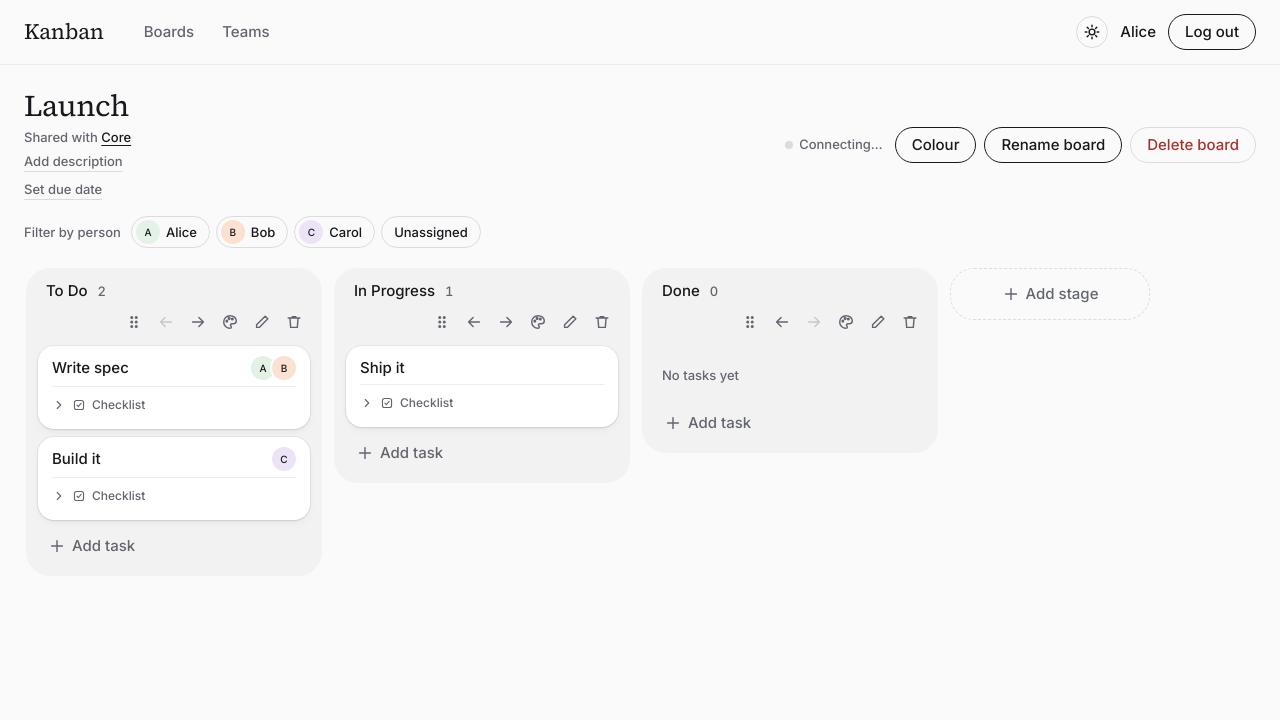
Scenario: assigning in the task dialog › pre-checks current assignees and can clear them
The image size is (1280, 720).
Expected: the heading "Launch" is shown, [24,85,129,126]
Click the button with aria-label "open task write spec" at x=90, y=367, box [52,358,296,380]
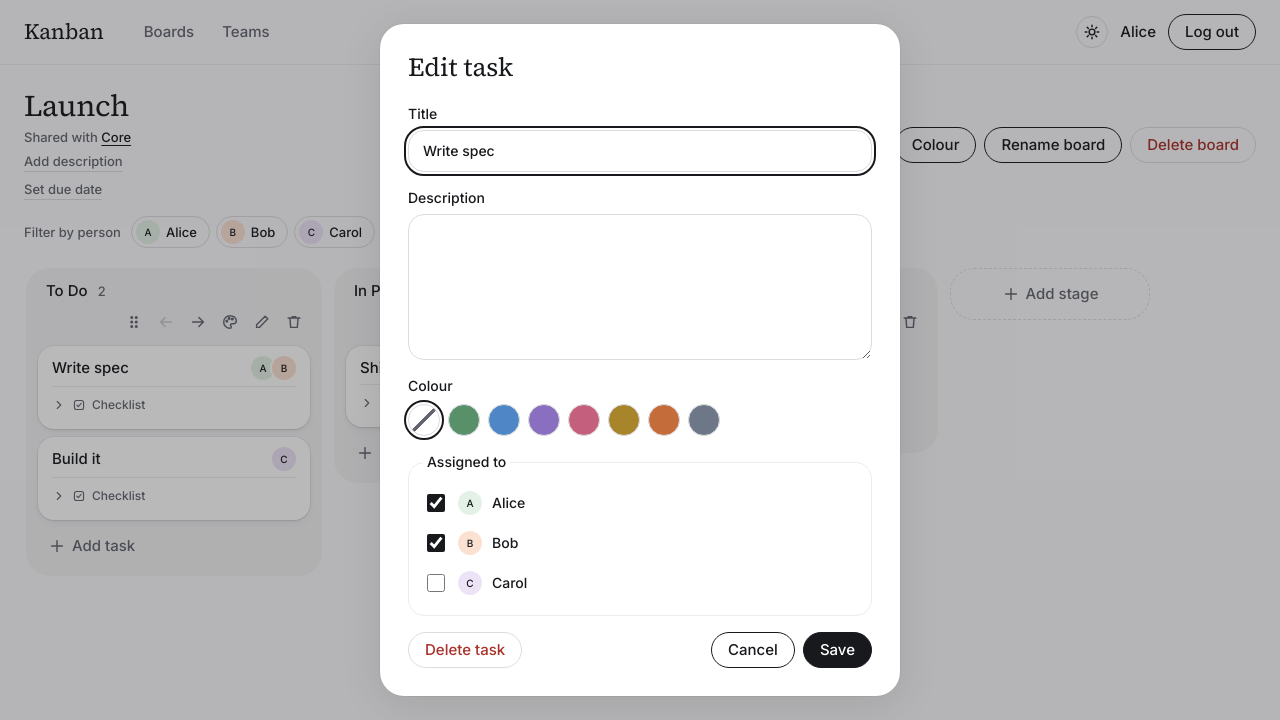
Now the checkbox labelled "Alice" is checked
Now the checkbox labelled "Bob" is checked, box [427,534,445,552]
Click the checkbox labelled "Alice" at x=436, y=503, box [427,494,445,512]
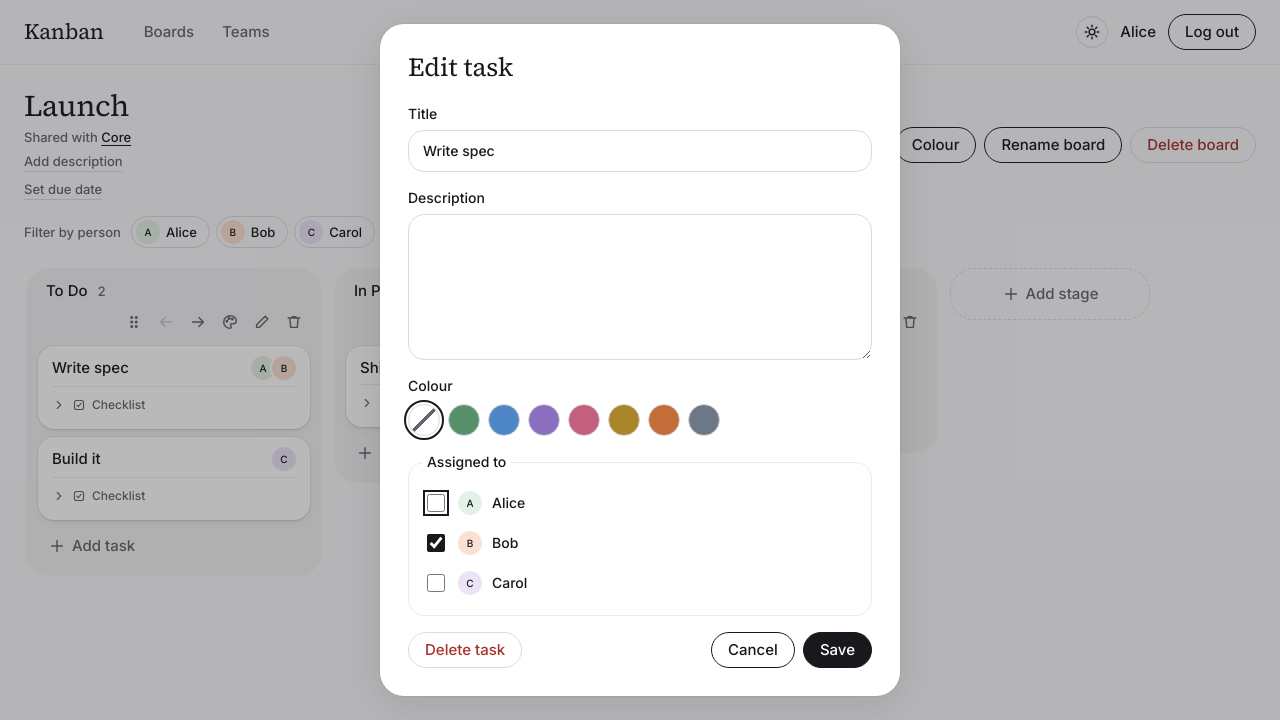
Click the checkbox labelled "Bob" at x=436, y=543, box [427,534,445,552]
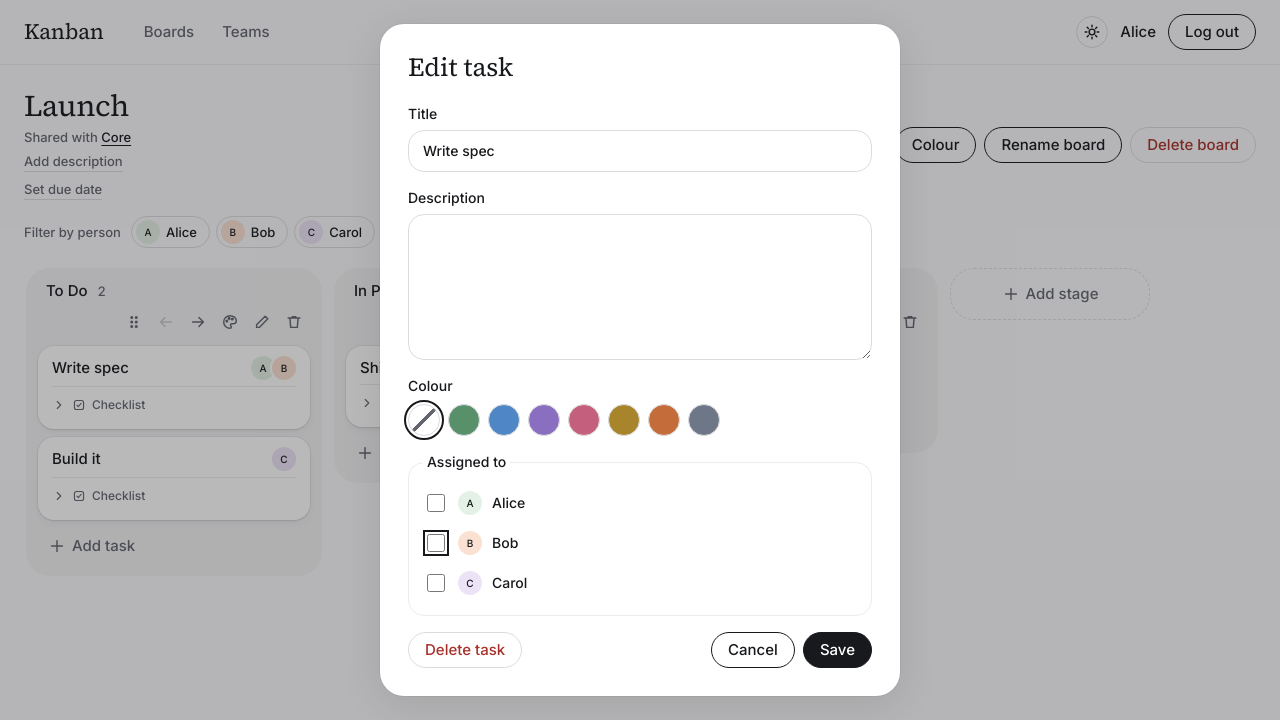
Click the button "Save" at x=837, y=650, box [803,632,872,668]
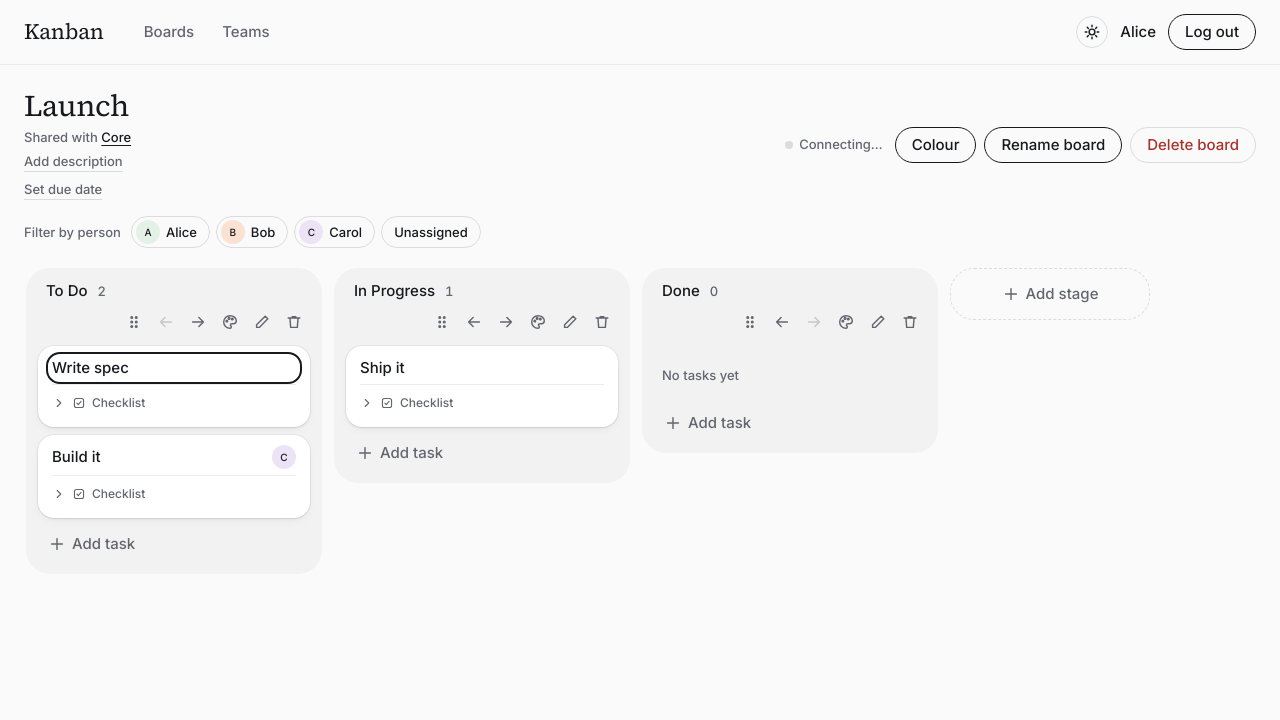
Now the dialog is gone
